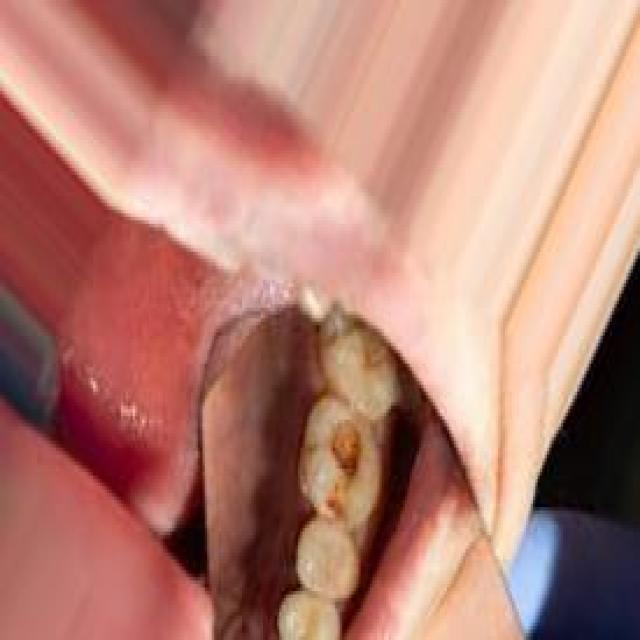caries: (297, 395, 384, 528)
